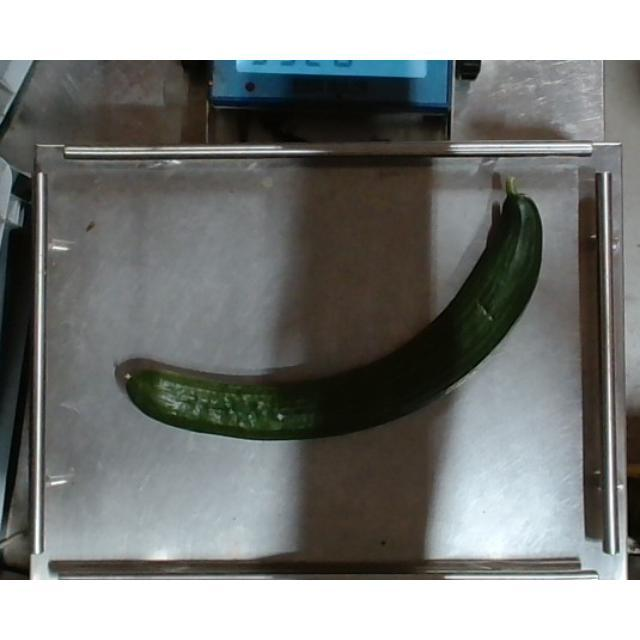cucumber: (124, 177, 544, 443)
